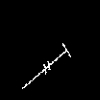treble_crochet: (22, 44, 70, 88)
